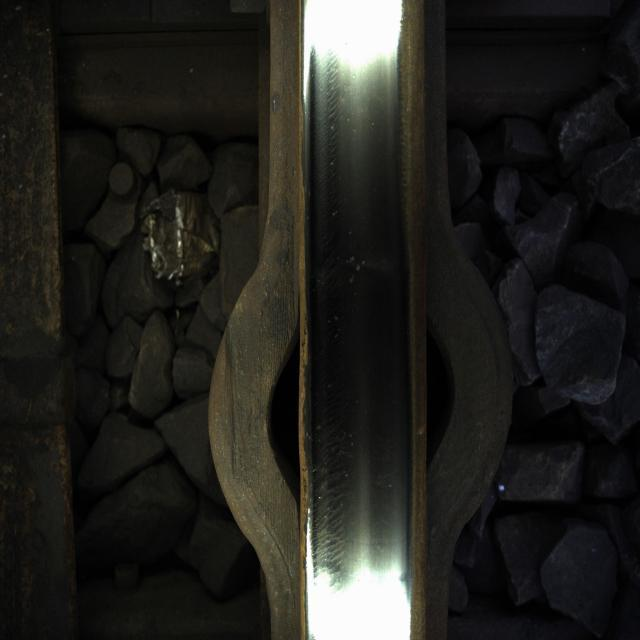break: (308, 36, 402, 550)
